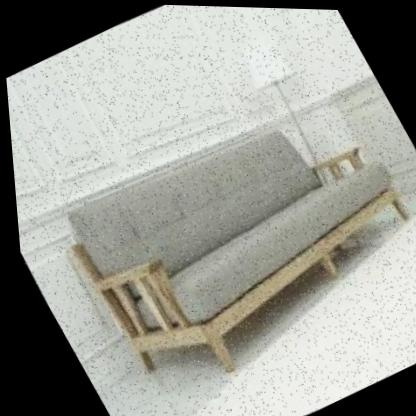Sofa: (5, 54, 416, 416)
